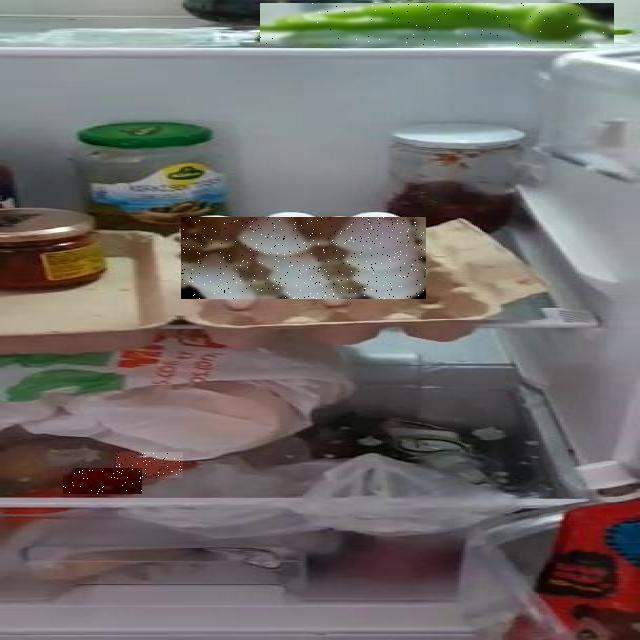egg: (0, 150, 394, 448)
